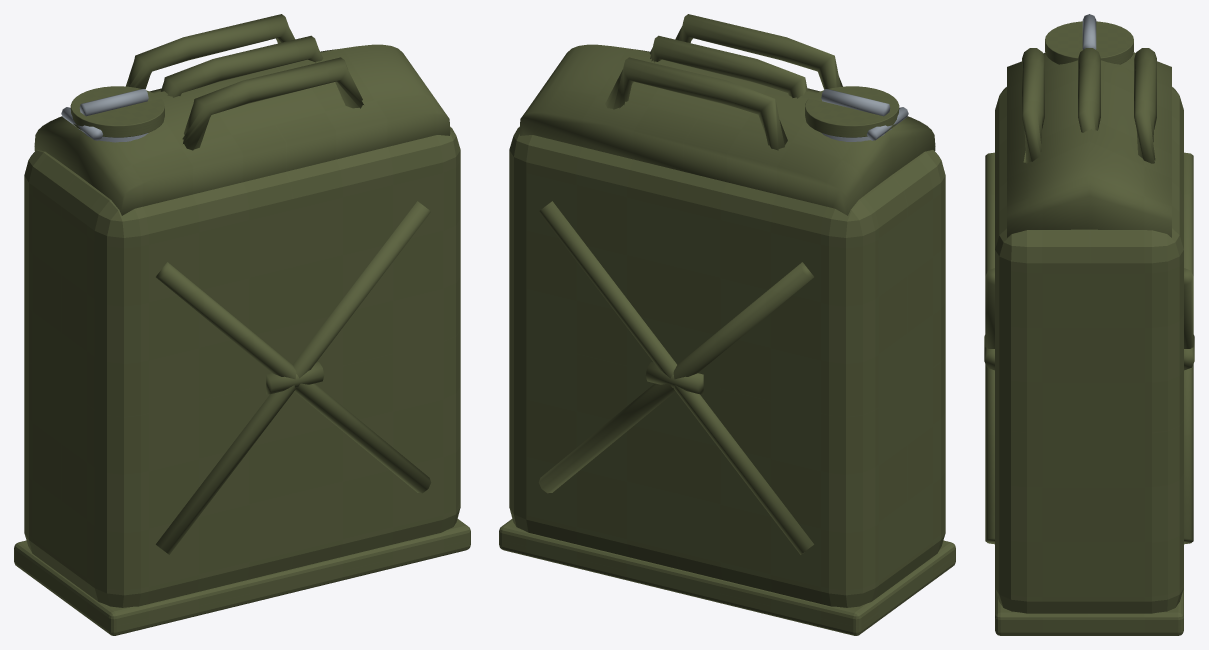
File: JerryCan_20L_Innerscene_CC0.glb
The picture shows the model from 3 angles, left to right: view 1: azimuth 30°, elevation 25°; view 2: azimuth 150°, elevation 25°; view 3: azimuth 270°, elevation 25°; orthographic projection. The views are drawn at different scales.
Parts seen in each view (by area): view 1: Pressed can enclosed body, Pressed sloping shoulder, Folded bottom seam, Embossed reinforcement rib, Embossed reinforcement rib.001, Three-bridge carry handle, Three-bridge carry handle.002, Three-bridge carry handle.001, Seated latched filler cap, Cap latch lever, Pressed face central rib; view 2: Pressed can enclosed body, Pressed sloping shoulder, Folded bottom seam, Embossed reinforcement rib.002, Embossed reinforcement rib.003, Three-bridge carry handle.002, Three-bridge carry handle, Three-bridge carry handle.001, Seated latched filler cap, Cap latch lever, Pressed face central rib.001; view 3: Pressed can enclosed body, Pressed sloping shoulder, Folded bottom seam, Embossed reinforcement rib.001, Embossed reinforcement rib.003, Seated latched filler cap, Three-bridge carry handle.002, Three-bridge carry handle, Three-bridge carry handle.001, Embossed reinforcement rib, Embossed reinforcement rib.002, Cap latch lever.
Boxes of the visible parts, <box> form: Pressed can enclosed body: <box>24,127,460,607</box>; Pressed sloping shoulder: <box>34,44,450,215</box>; Folded bottom seam: <box>14,519,470,635</box>; Embossed reinforcement rib: <box>156,201,430,554</box>; Embossed reinforcement rib.001: <box>156,262,431,493</box>; Three-bridge carry handle: <box>182,57,363,150</box>; Three-bridge carry handle.002: <box>125,14,295,88</box>; Three-bridge carry handle.001: <box>160,35,323,97</box>; Seated latched filler cap: <box>70,86,164,137</box>; Cap latch lever: <box>79,89,148,116</box>; Pressed face central rib: <box>266,362,324,394</box>; Pressed can enclosed body: <box>509,127,945,607</box>; Pressed sloping shoulder: <box>519,44,935,215</box>; Folded bottom seam: <box>499,519,955,635</box>; Embossed reinforcement rib.002: <box>539,201,813,554</box>; Embossed reinforcement rib.003: <box>538,262,813,493</box>; Three-bridge carry handle.002: <box>605,57,787,150</box>; Three-bridge carry handle: <box>675,14,842,89</box>; Three-bridge carry handle.001: <box>650,35,807,98</box>; Seated latched filler cap: <box>805,86,899,137</box>; Cap latch lever: <box>821,89,890,116</box>; Pressed face central rib.001: <box>645,362,703,394</box>; Pressed can enclosed body: <box>995,87,1183,613</box>; Pressed sloping shoulder: <box>1007,52,1171,237</box>; Folded bottom seam: <box>995,588,1183,635</box>; Embossed reinforcement rib.001: <box>985,152,994,544</box>; Embossed reinforcement rib.003: <box>1184,152,1193,544</box>; Seated latched filler cap: <box>1045,21,1133,64</box>; Three-bridge carry handle.002: <box>1134,48,1156,163</box>; Three-bridge carry handle: <box>1022,48,1044,163</box>; Three-bridge carry handle.001: <box>1078,48,1100,132</box>; Embossed reinforcement rib: <box>985,268,994,348</box>; Embossed reinforcement rib.002: <box>1184,268,1193,348</box>; Cap latch lever: <box>1082,14,1096,49</box>.
Size of the model in its own units: 0.345 by 0.4605 by 0.184.
2 materials, 2 textured.
